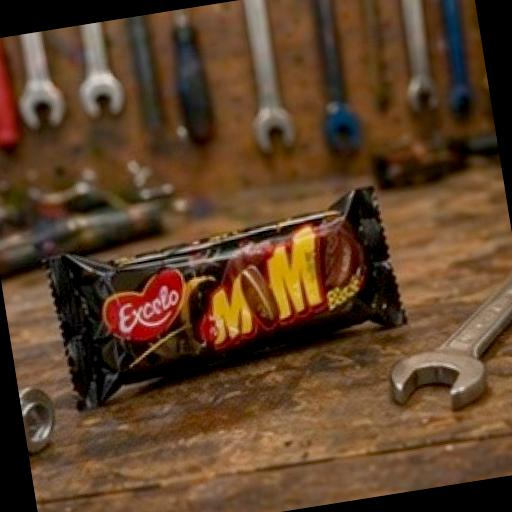MOMO: (16, 143, 498, 466)
